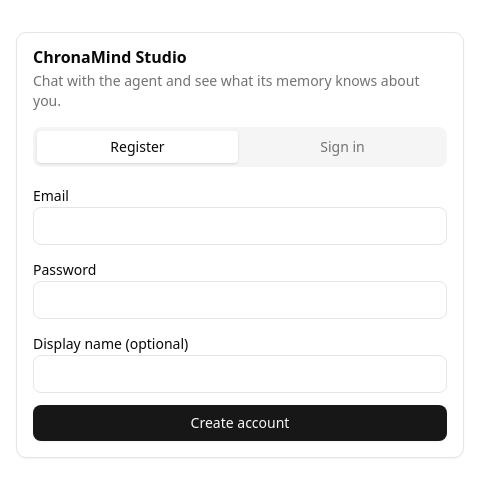
Test: Register › shows the server's message for an email already registered
Type "taken@example.com" into the field labelled "Email" at (240, 226), box [33, 207, 447, 245]
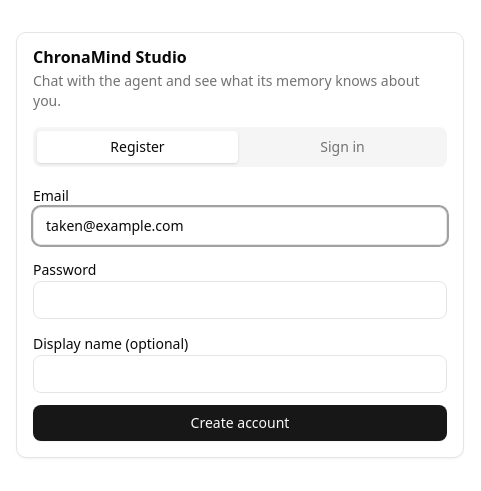
Type "Demo!pass1" into the password field labelled "Password" at (240, 300), box [33, 281, 447, 319]
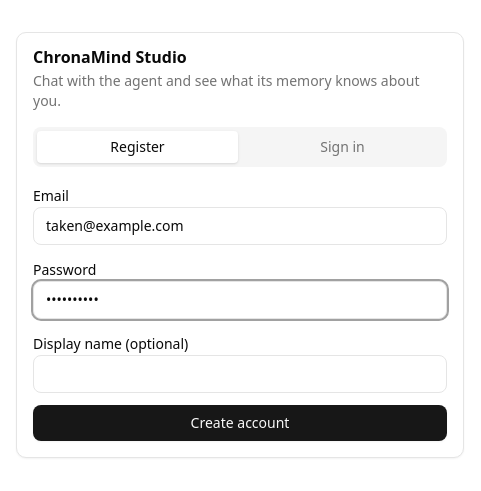
Click the button "Create account" at (240, 423), box [33, 405, 447, 441]
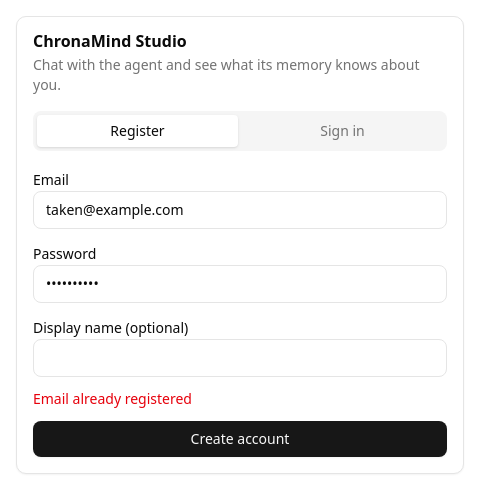
Now the message reads "Email already registered", box [33, 389, 192, 408]
